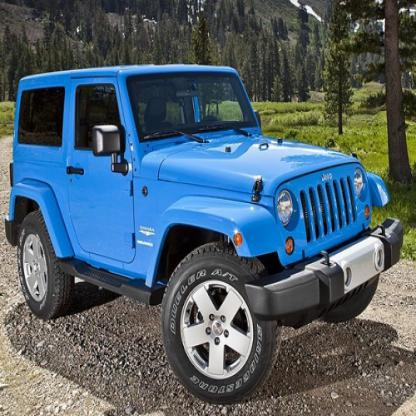car: (3, 61, 411, 405)
